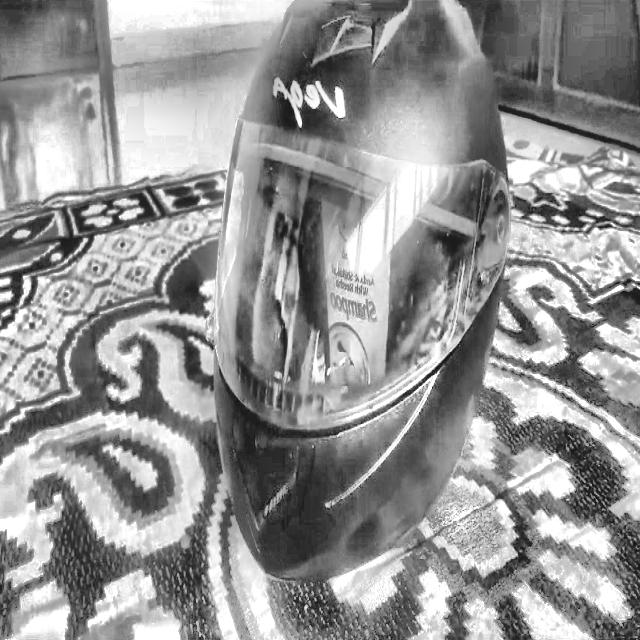Helmet: (208, 0, 513, 584)
